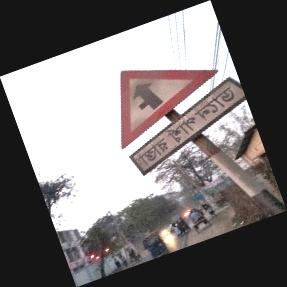Side-road-right: (119, 68, 253, 177)
